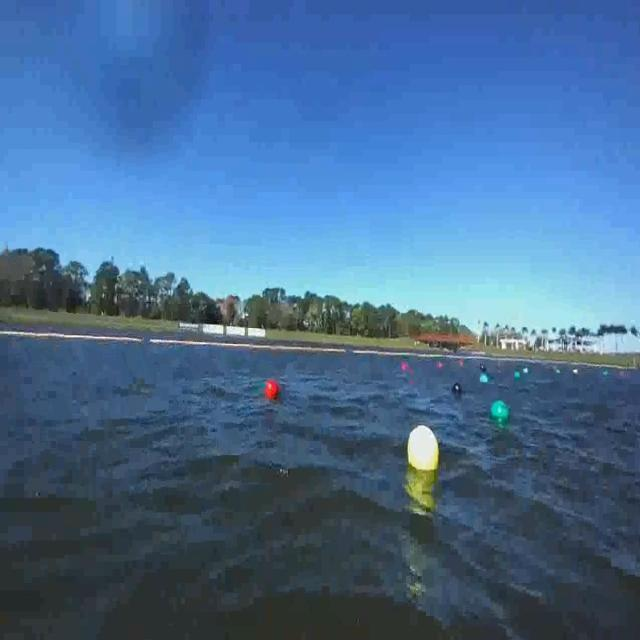black-buoy: (451, 380, 460, 393), (453, 383, 462, 395)
green-buoy: (491, 402, 508, 424)
red-buoy: (267, 381, 281, 402)
yellow-buoy: (408, 426, 440, 473)
